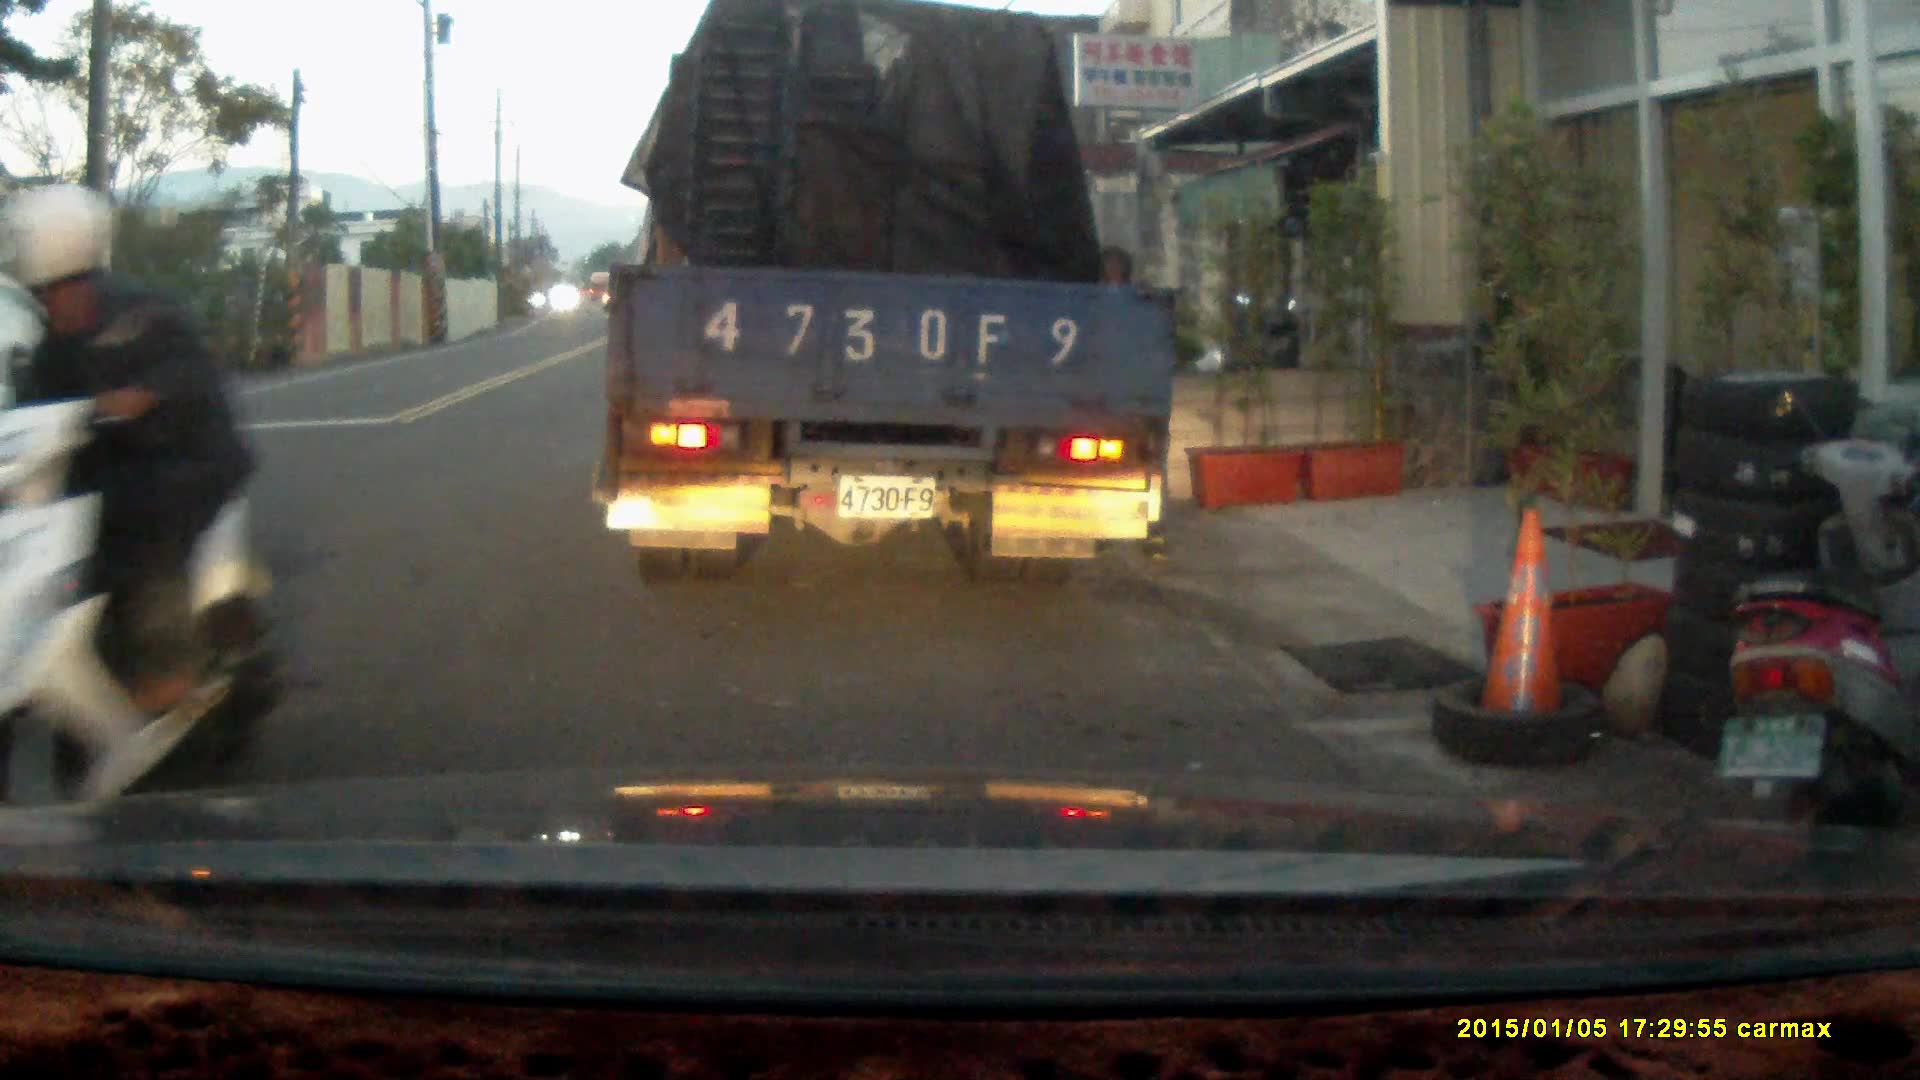rider: (0, 182, 278, 854)
vehicle: (599, 23, 1185, 572)
